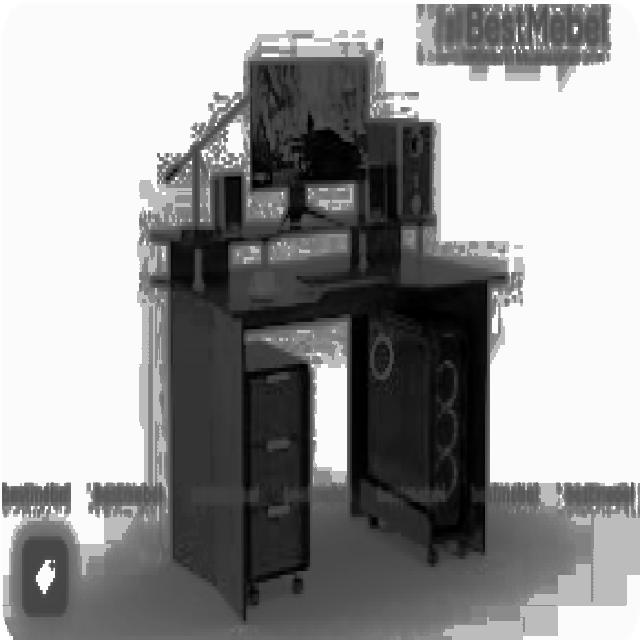table: (148, 211, 505, 621)
